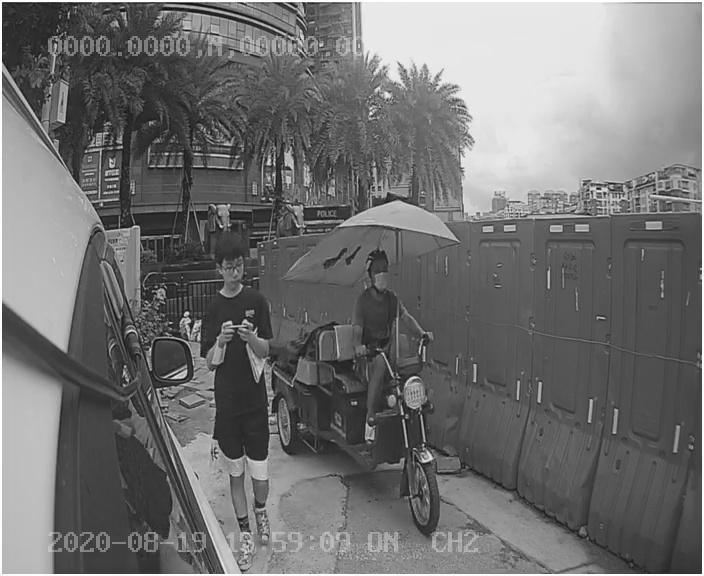person: (190, 242, 293, 530)
